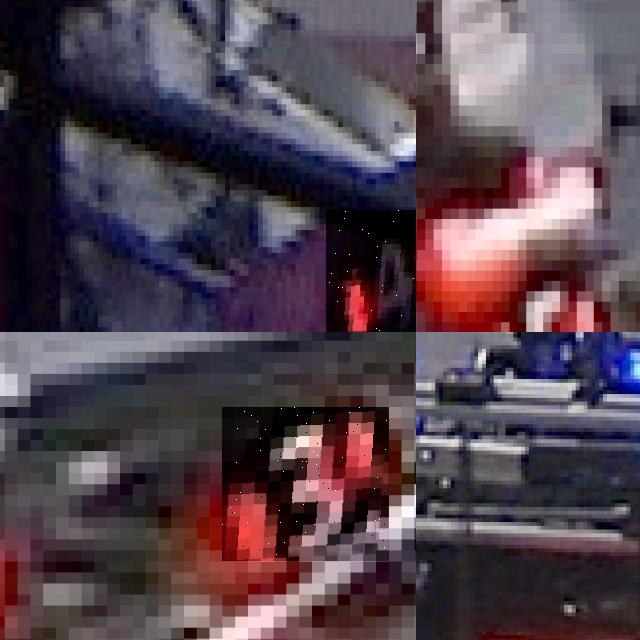R3: (222, 407, 389, 561)
R4: (326, 210, 416, 332)
R5: (484, 270, 610, 332)
